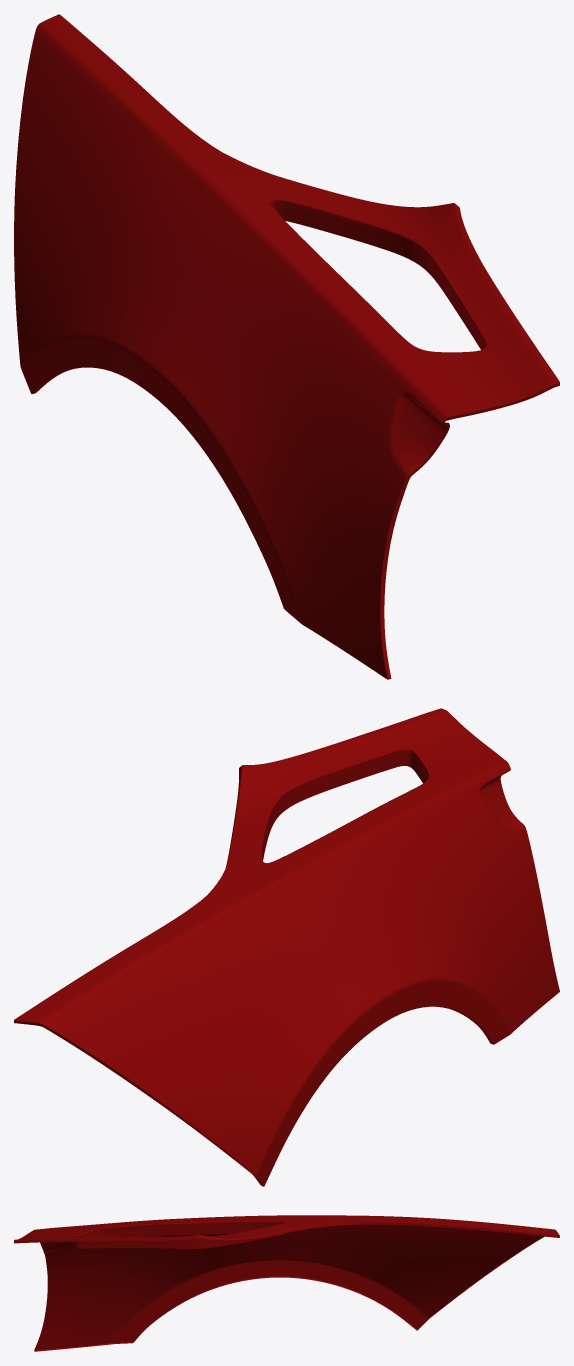
Rendered from c7rearpasspanel.glb.
3 views of the same model, one above another, from view 1: azimuth 30°, elevation 25°; view 2: azimuth 150°, elevation 25°; view 3: azimuth 270°, elevation 25° (orthographic). The views are drawn at different scales.
Visible parts, largest first — view 1: Back_Fender_Left_Crysal_Red_0; view 2: Back_Fender_Left_Crysal_Red_0; view 3: Back_Fender_Left_Crysal_Red_0.
Boxes of the visible parts, bbox=[...] form: Back_Fender_Left_Crysal_Red_0: bbox=[14, 14, 559, 679]; Back_Fender_Left_Crysal_Red_0: bbox=[14, 708, 559, 1186]; Back_Fender_Left_Crysal_Red_0: bbox=[14, 1215, 559, 1351].
Size of the model in its own units: 0.3252 by 0.4146 by 1.18.
